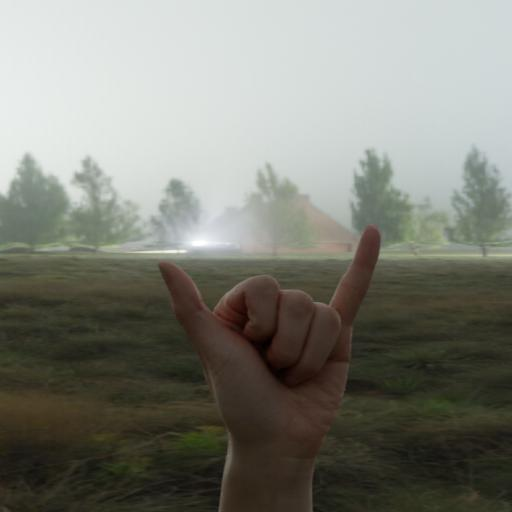Y: (148, 219, 396, 465)
